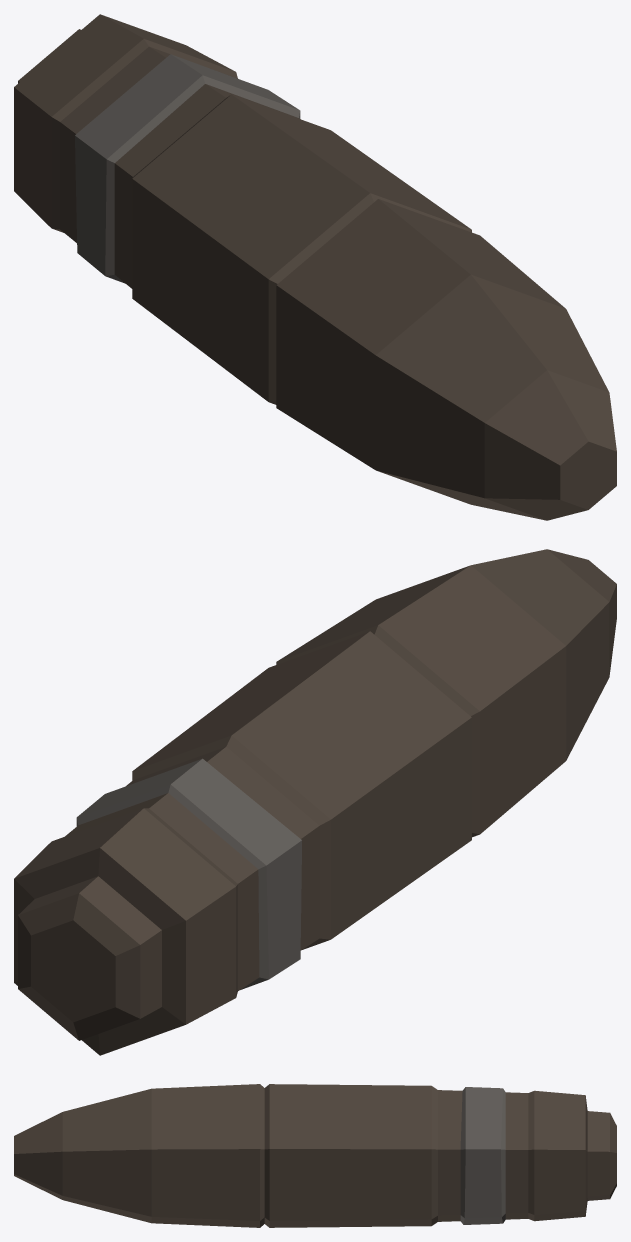
Rendered from SM_Prop_IED_03.glb.
3 renders of one model, top to bottom at view 1: azimuth 30°, elevation 25°; view 2: azimuth 150°, elevation 25°; view 3: azimuth 270°, elevation 25°, orthographic. The views are drawn at different scales.
Parts seen in each view (by area): view 1: SM_Prop_IED_03; view 2: SM_Prop_IED_03; view 3: SM_Prop_IED_03.
Boxes of the visible parts, x1,y1,x2,y2 form: SM_Prop_IED_03: (14,14,616,520); SM_Prop_IED_03: (14,549,616,1055); SM_Prop_IED_03: (14,1084,616,1227).
Bounding box in the file's own units: 0.1446 × 0.167 × 0.6339.
1 material, 1 textured.
